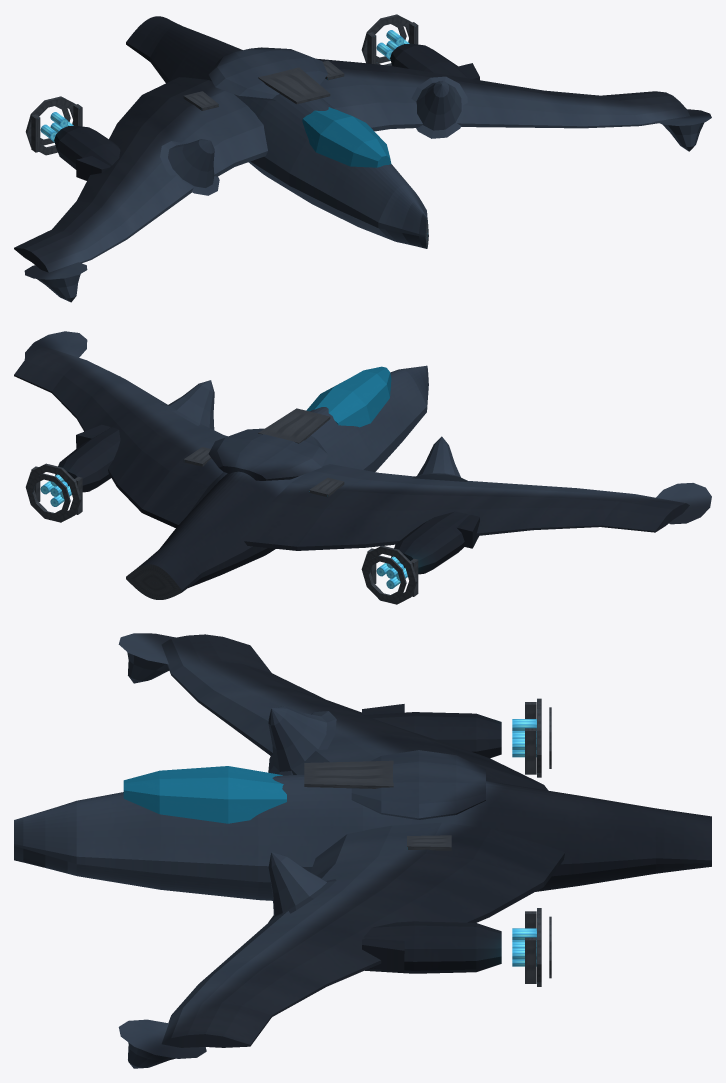
The model's file is spaceship_interceptor_quad.obj.
The picture shows the model from 3 angles, top to bottom: view 1: azimuth 30°, elevation 25°; view 2: azimuth 150°, elevation 25°; view 3: azimuth 270°, elevation 25°; orthographic projection. The views are drawn at different scales.
Visible parts, largest first — view 1: spaceship_interceptor_quad; view 2: spaceship_interceptor_quad; view 3: spaceship_interceptor_quad.
Part boxes in pixels (bbox=[...]): spaceship_interceptor_quad: bbox=[14, 14, 711, 302]; spaceship_interceptor_quad: bbox=[14, 331, 711, 604]; spaceship_interceptor_quad: bbox=[14, 633, 711, 1068].
Bounding box in the file's own units: 8.86 × 1.28 × 6.2.
Materials: 1 (1 with a texture image).
